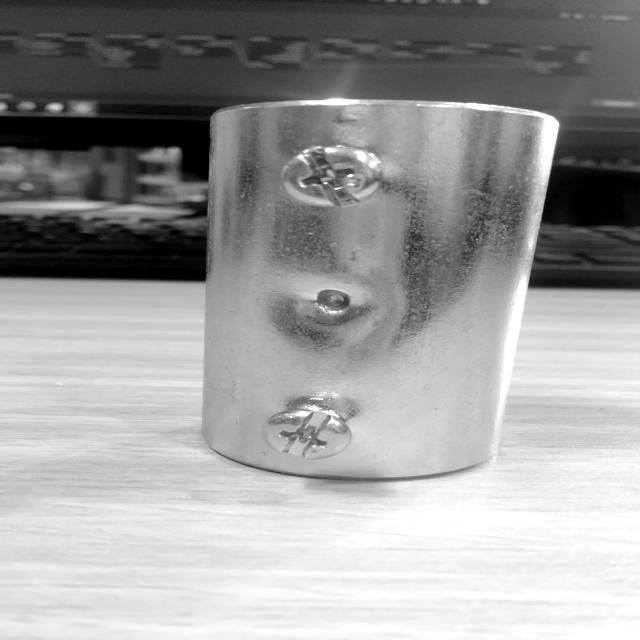Co_Nho: (200, 94, 558, 486)
